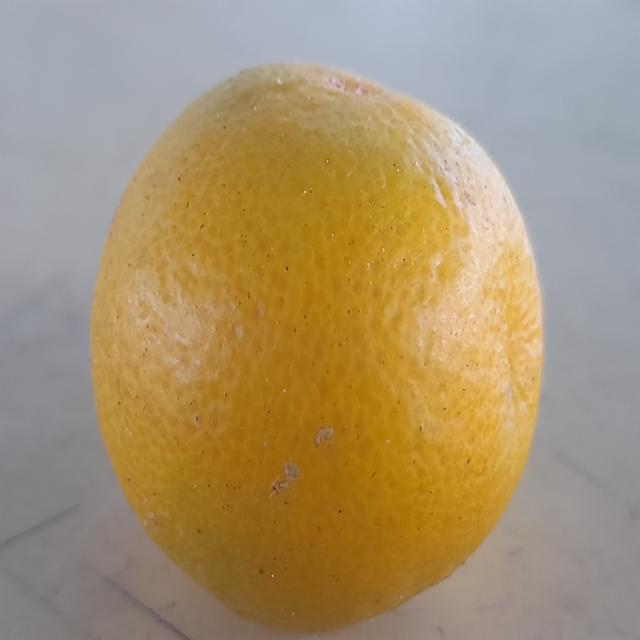greening: (84, 57, 550, 623)
